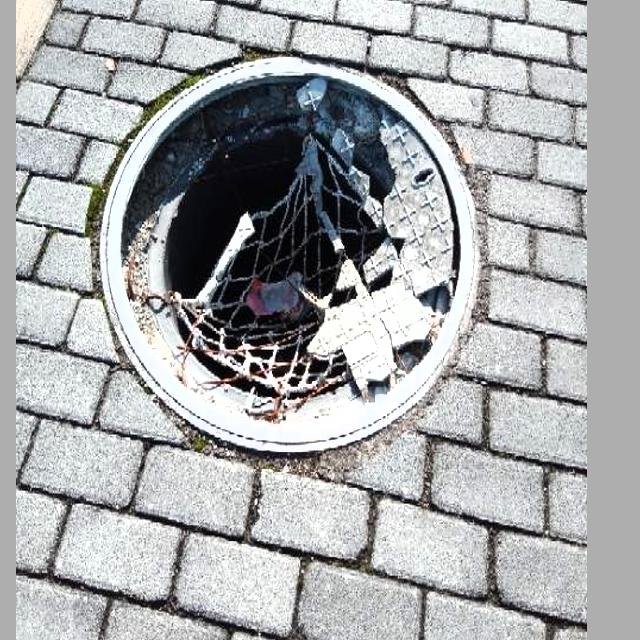broke: (68, 26, 502, 483)
